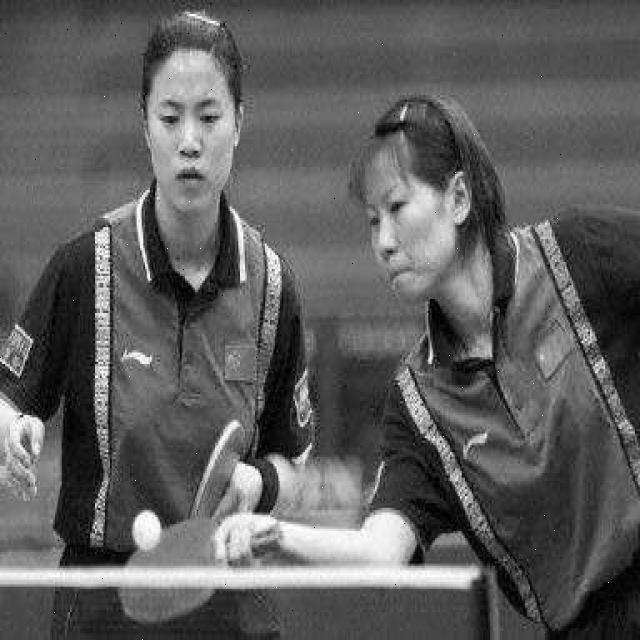ping-pong-ball: (128, 503, 162, 552)
